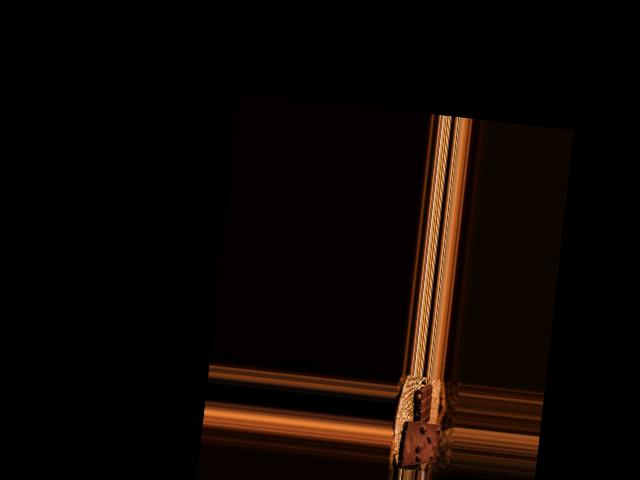chocolate: (398, 417, 442, 470)
